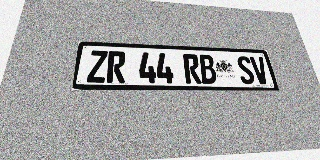4: (139, 52, 157, 83), (156, 53, 174, 83)
B: (198, 54, 218, 84)
R: (106, 51, 126, 83), (183, 54, 202, 84)
S: (236, 56, 256, 84)
V: (249, 56, 270, 84)
Z: (87, 50, 108, 83)
